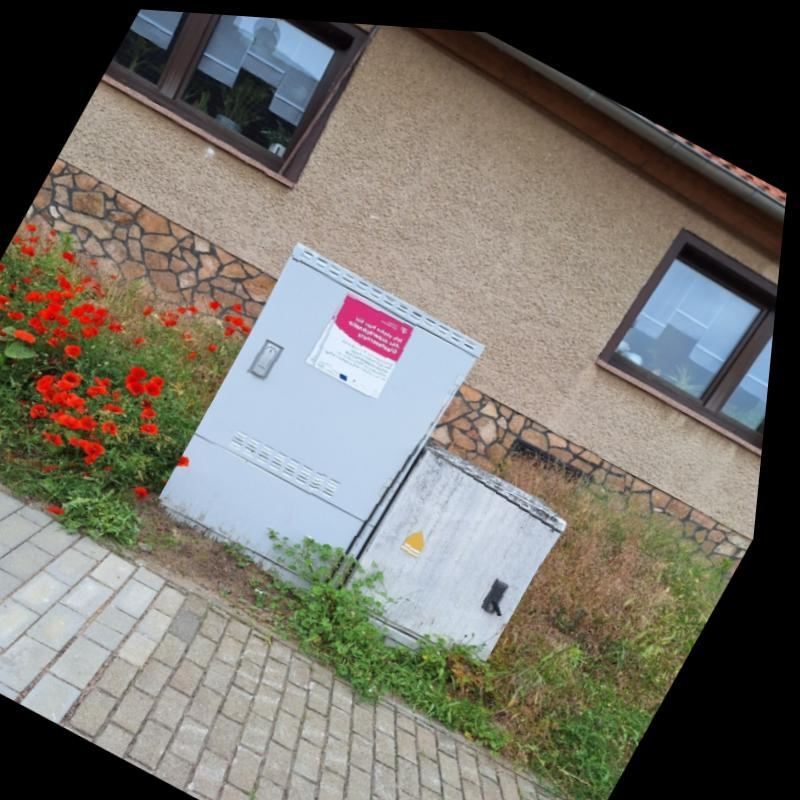NT-Gehause: (161, 239, 494, 598), (355, 439, 578, 658)
Steaker: (311, 283, 426, 396)
